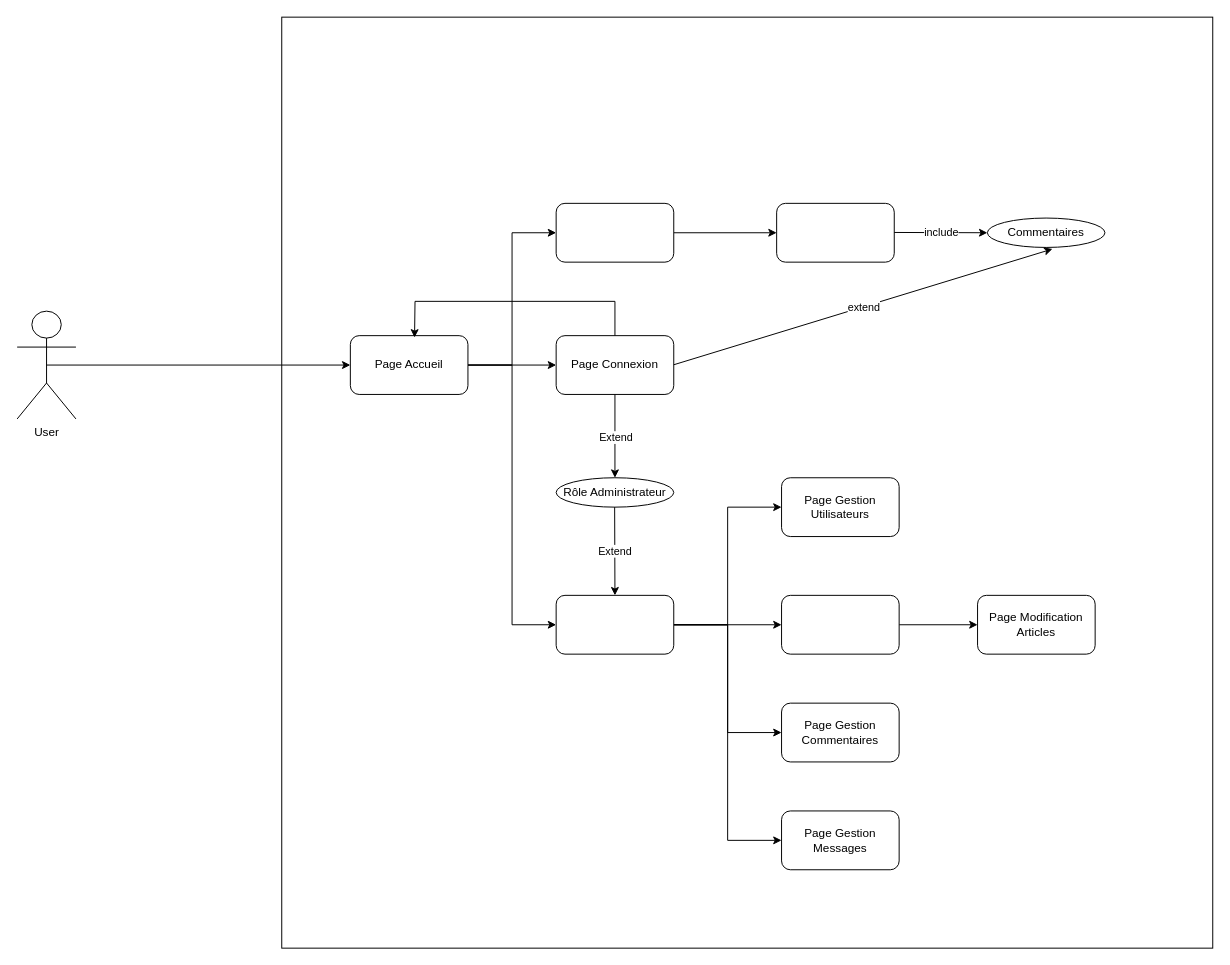
This 1230x965 diagram has some shape labels left out. Each missing label, with the centre of its shape:
"Page Administrateur" belongs at (x=614, y=624).
"Page Article" belongs at (x=835, y=232).
"Page Gestion Articles" belongs at (x=840, y=624).
"Page Liste Articles" belongs at (x=614, y=232).
